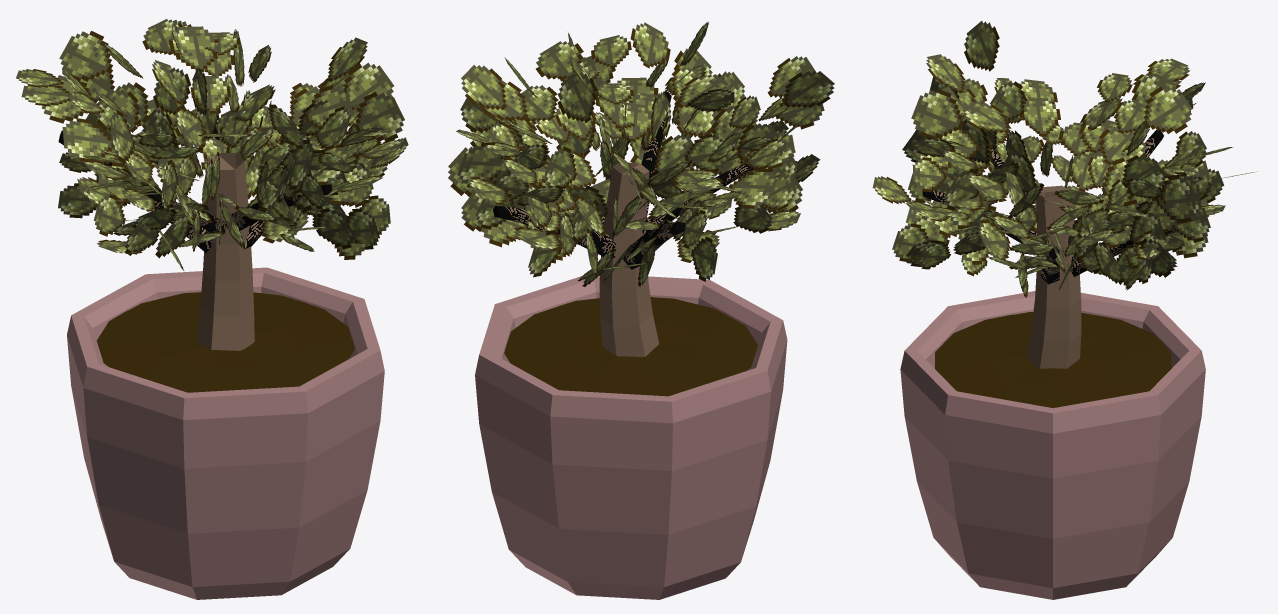
The model's file is plant_jade.gltf.
3 renders of one model, left to right at view 1: azimuth 30°, elevation 25°; view 2: azimuth 150°, elevation 25°; view 3: azimuth 270°, elevation 25°, orthographic. The views are drawn at different scales.
Visible parts, largest first — view 1: Pot, Soil, Trunk_Main, Leaf_101, Leaf_125, Leaf_109, Leaf_011, Leaf_030, Leaf_100, Leaf_067, Leaf_206, Leaf_007 (+36 smaller); view 2: Pot, Soil, Trunk_Main, Leaf_007, Leaf_042, Leaf_149, Leaf_159, Leaf_066, Leaf_061, Leaf_215, Branch_01, Leaf_003 (+42 smaller); view 3: Pot, Soil, Trunk_Main, Leaf_185, Leaf_090, Leaf_149, Leaf_052, Leaf_140, Leaf_164, Leaf_129, Leaf_146, Leaf_174 (+28 smaller).
Part boxes in pixels (bbox=[...]): Pot: bbox=[67, 267, 384, 599]; Soil: bbox=[96, 292, 354, 392]; Trunk_Main: bbox=[197, 153, 254, 350]; Leaf_101: bbox=[59, 31, 112, 81]; Leaf_125: bbox=[354, 92, 404, 142]; Leaf_109: bbox=[62, 118, 113, 162]; Leaf_011: bbox=[168, 26, 218, 71]; Leaf_030: bbox=[343, 62, 393, 111]; Leaf_100: bbox=[95, 89, 139, 132]; Leaf_067: bbox=[305, 85, 353, 129]; Leaf_206: bbox=[316, 208, 354, 249]; Leaf_007: bbox=[327, 37, 367, 81]; Pot: bbox=[475, 275, 787, 599]; Soil: bbox=[504, 297, 757, 396]; Trunk_Main: bbox=[599, 162, 659, 356]; Leaf_007: bbox=[461, 65, 506, 110]; Leaf_042: bbox=[557, 72, 596, 123]; Leaf_149: bbox=[783, 71, 834, 107]; Leaf_159: bbox=[727, 168, 777, 208]; Leaf_066: bbox=[536, 41, 583, 79]; Leaf_061: bbox=[457, 142, 503, 187]; Leaf_215: bbox=[630, 22, 670, 68]; Branch_01: bbox=[493, 205, 615, 257]; Leaf_003: bbox=[519, 85, 558, 121]; Pot: bbox=[900, 291, 1205, 599]; Soil: bbox=[935, 312, 1171, 407]; Trunk_Main: bbox=[1026, 185, 1081, 368]; Leaf_185: bbox=[911, 89, 963, 139]; Leaf_090: bbox=[1143, 86, 1192, 133]; Leaf_149: bbox=[964, 21, 999, 71]; Leaf_052: bbox=[1156, 175, 1195, 223]; Leaf_140: bbox=[1021, 98, 1060, 136]; Leaf_164: bbox=[962, 101, 1010, 133]; Leaf_129: bbox=[1098, 126, 1147, 164]; Leaf_146: bbox=[926, 54, 965, 93]; Leaf_174: bbox=[990, 81, 1024, 121].
Bounding box in the file's own units: 1.76 × 2.54 × 1.9.
Materials: 4 (4 with a texture image).
